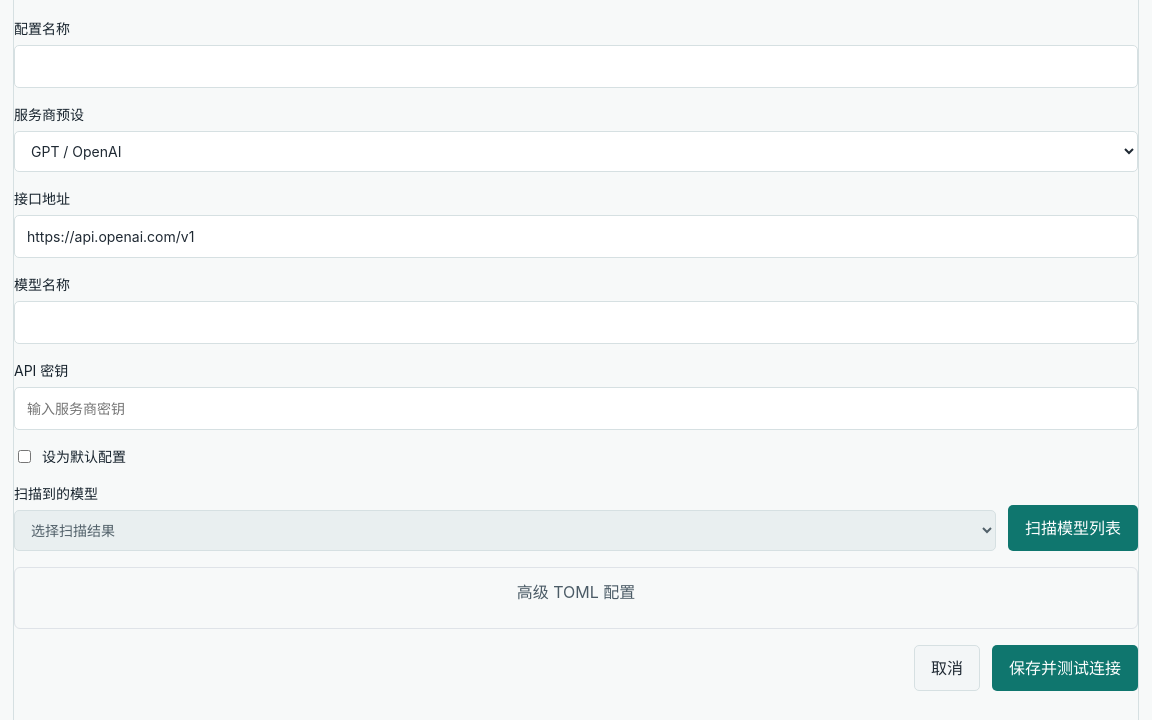
Test: ModelProfileForm › switches the provider preset to 自定义 when the endpoint is edited directly
Replace the text in the field with test id "endpoint-url" with "https://api.deepseek.com/v1": point(576, 236) 14,215 -> 1138,258
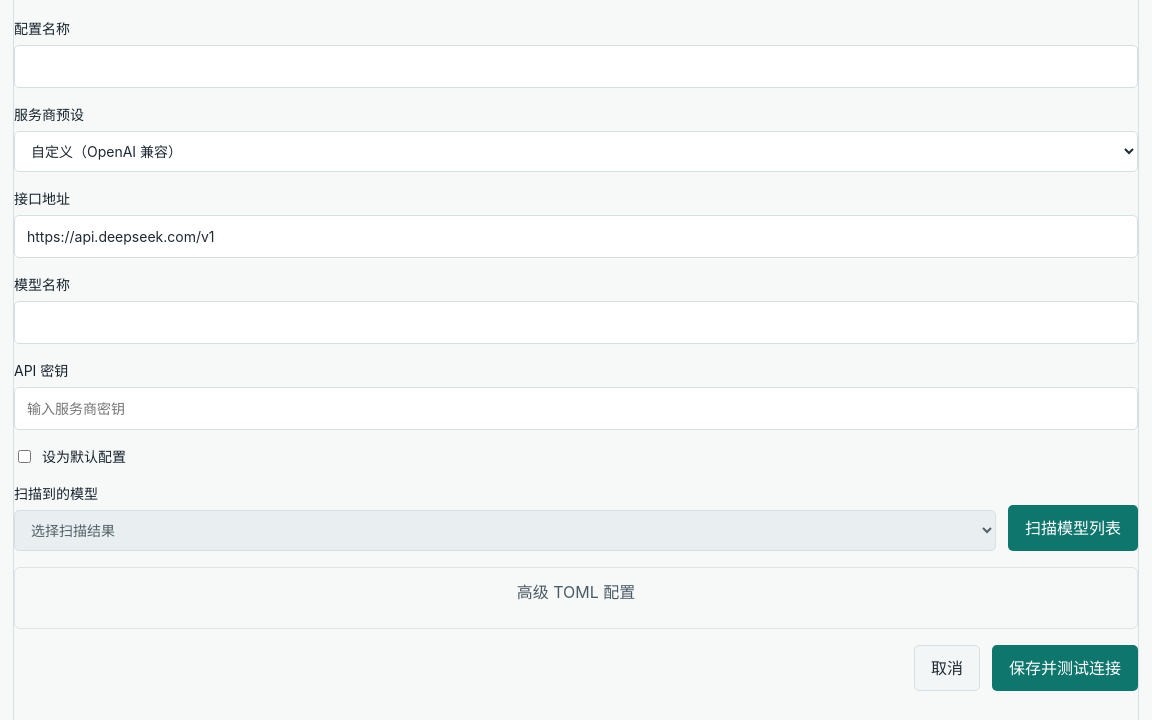
Result: the dropdown with test id "provider-preset" shows "自定义（OpenAI 兼容）" at 14,131 -> 1138,172
